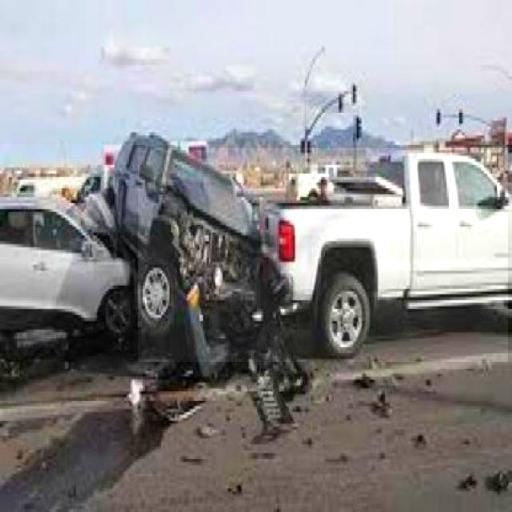小汽车撞小汽车: (138, 148, 508, 362), (0, 144, 240, 377)
